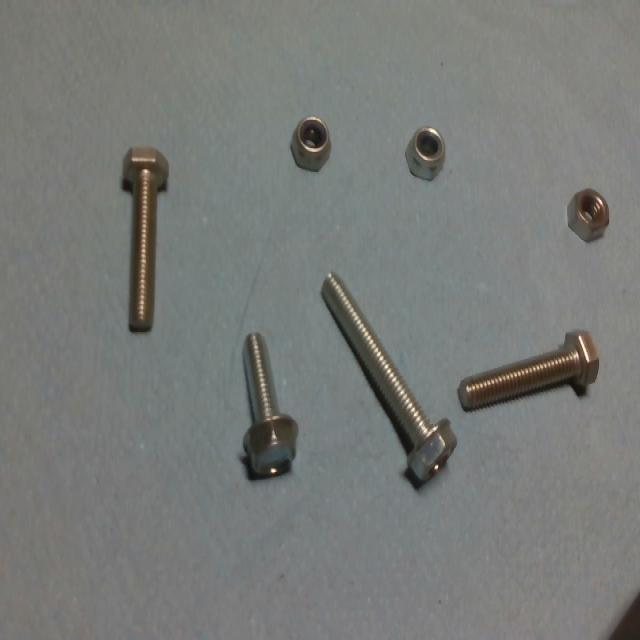Bolt: (321, 272, 455, 484), (458, 331, 598, 409), (122, 147, 169, 328), (242, 333, 298, 480)
Nut: (565, 185, 611, 247), (404, 125, 446, 181), (291, 115, 330, 171)
